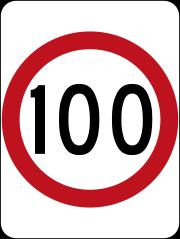Speed Limit -100-: (15, 53, 166, 188)
